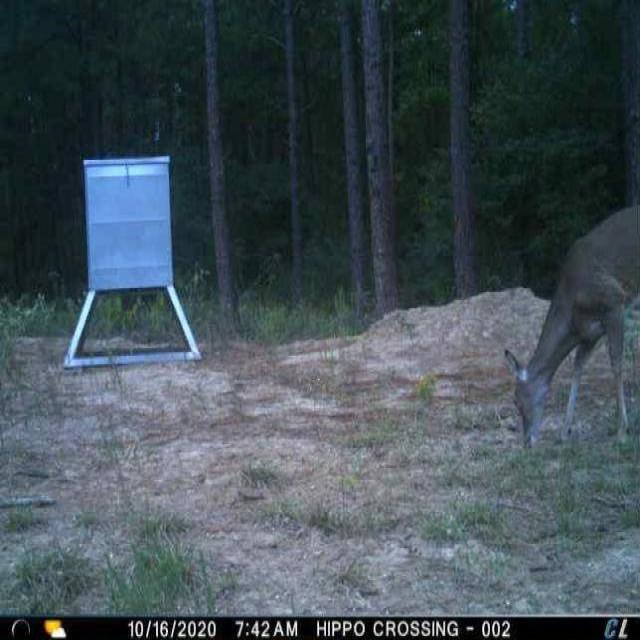deer: (503, 197, 639, 453)
